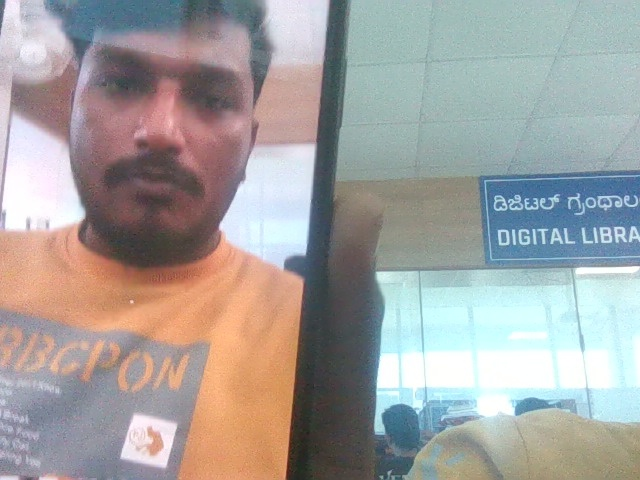fake: (39, 0, 281, 343)
